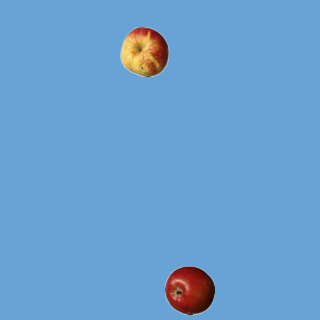Apple Braeburn: (164, 265, 214, 315)
Apple Red Yellow 1: (119, 26, 169, 76)
